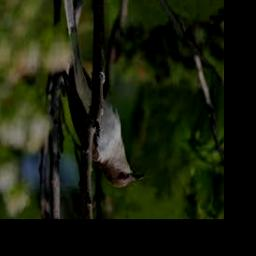Cuckoo: (61, 0, 145, 188)
